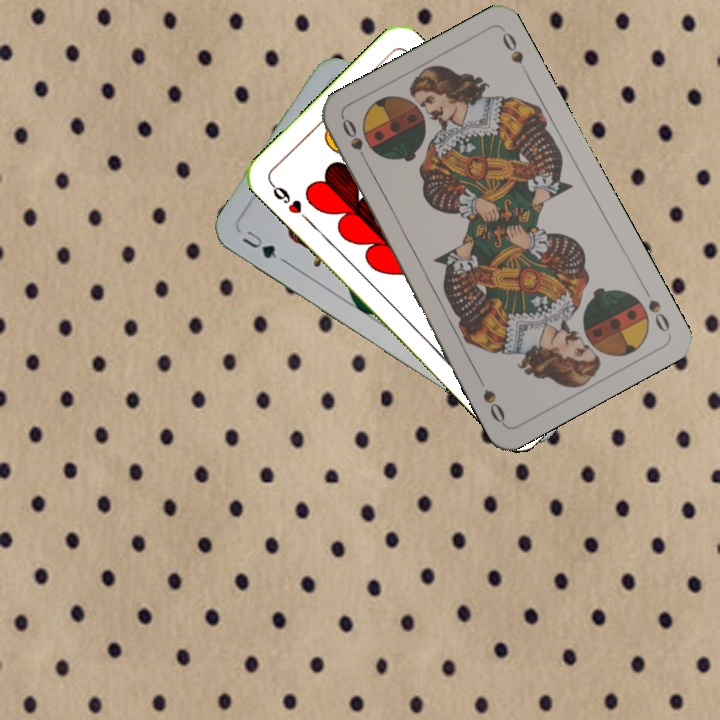GU: (238, 226, 280, 262)
H9: (265, 178, 312, 224)
SO: (338, 114, 373, 170), (638, 282, 673, 335)
